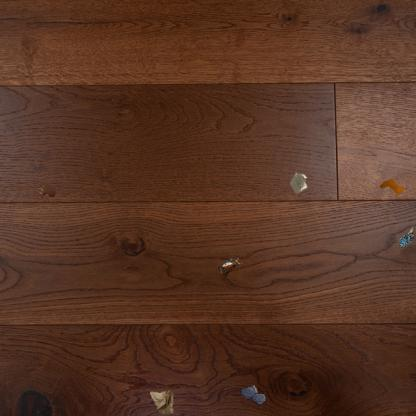dirty: (150, 390, 175, 416), (378, 176, 407, 196), (216, 256, 242, 278), (288, 171, 310, 194), (397, 226, 415, 250)
liquid: (241, 384, 266, 404), (37, 181, 57, 200)
